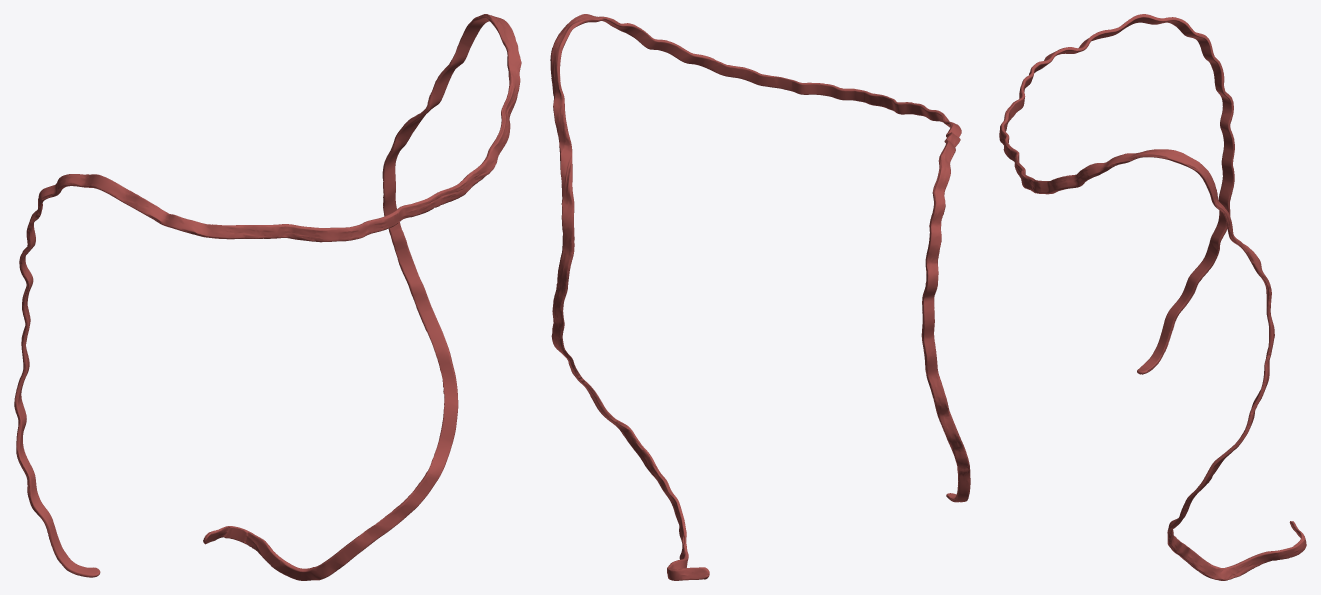
Rendered from FMA76892.glb.
3 views of the same model, side by side, from view 1: azimuth 30°, elevation 25°; view 2: azimuth 150°, elevation 25°; view 3: azimuth 270°, elevation 25° (orthographic). The views are drawn at different scales.
Visible parts, largest first — view 1: FMA76892; view 2: FMA76892; view 3: FMA76892.
Boxes of the visible parts, bbox=[...] form: FMA76892: bbox=[14, 14, 521, 580]; FMA76892: bbox=[550, 14, 970, 580]; FMA76892: bbox=[999, 14, 1306, 580].
Size of the model in its own units: 0.1993 by 0.2254 by 0.1257.
